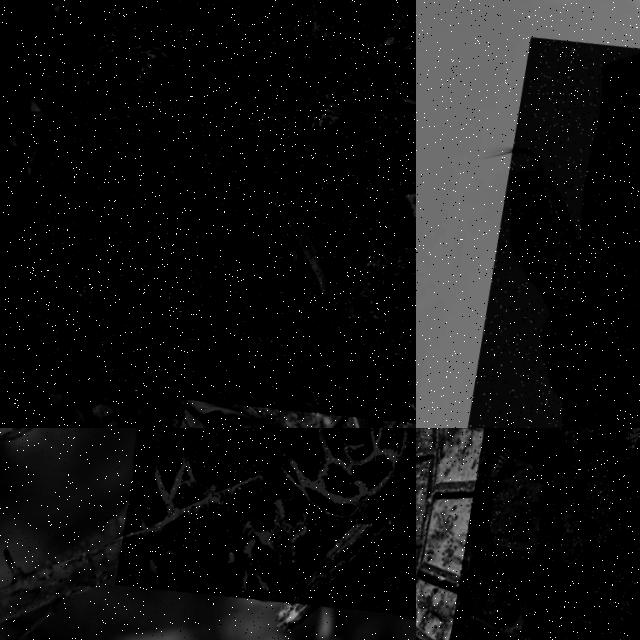Bungarus fasciatus: (35, 0, 415, 393)
Chrysopelea ornata: (470, 428, 639, 639)
Daboia siamensis: (511, 55, 639, 427)
Python bivittatus: (137, 428, 415, 600)
snake: (35, 0, 415, 393), (137, 428, 415, 600), (511, 55, 639, 427), (470, 428, 639, 639)
